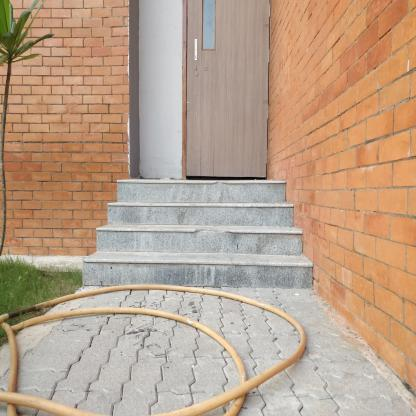stairs: (106, 202, 284, 297)
